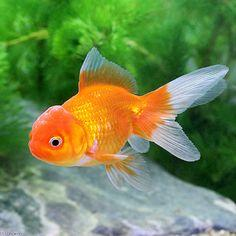goldfish: (18, 52, 225, 191)
